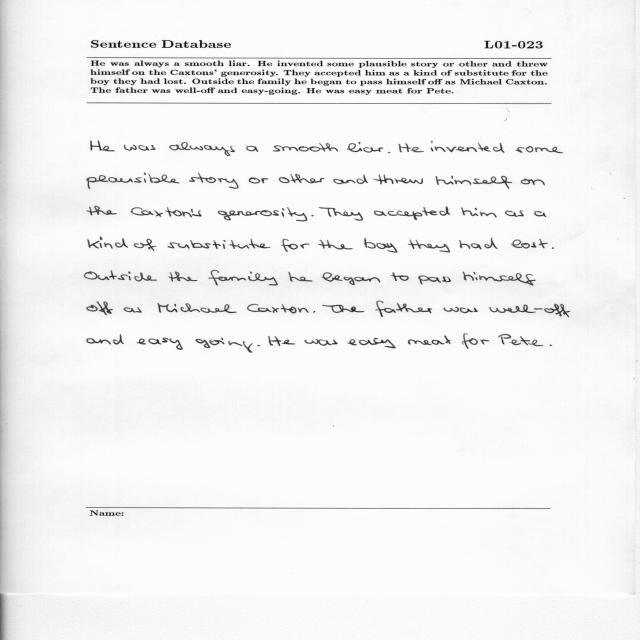word: (137, 338, 253, 353), (87, 173, 179, 189), (474, 304, 571, 317), (218, 207, 307, 221), (208, 270, 278, 286), (462, 272, 536, 286), (168, 239, 271, 249), (435, 176, 512, 189), (374, 207, 450, 220), (169, 142, 235, 156), (375, 301, 432, 317), (431, 141, 505, 153), (84, 270, 157, 282), (189, 173, 239, 189), (157, 303, 237, 313), (322, 272, 380, 285), (131, 208, 202, 218), (319, 207, 363, 221), (247, 304, 308, 314), (273, 143, 338, 152), (408, 240, 450, 253), (499, 334, 544, 346), (364, 238, 398, 253), (373, 175, 423, 185), (347, 338, 396, 348), (88, 237, 128, 249), (408, 335, 451, 345), (459, 238, 498, 249), (347, 142, 384, 153), (279, 174, 324, 183), (462, 334, 489, 349), (461, 207, 497, 218), (86, 302, 113, 316), (281, 239, 310, 252), (511, 239, 548, 249), (87, 334, 124, 344), (333, 175, 368, 185), (318, 240, 353, 250), (322, 305, 364, 313), (516, 146, 563, 153), (87, 206, 117, 216), (418, 276, 451, 285), (169, 272, 198, 282), (268, 336, 295, 346), (134, 239, 156, 251), (288, 272, 313, 282), (91, 141, 115, 151), (305, 339, 338, 346), (399, 143, 424, 152), (124, 145, 156, 151), (443, 307, 473, 313), (520, 179, 545, 186), (391, 272, 409, 281), (249, 178, 269, 184), (505, 211, 524, 217), (123, 307, 142, 313), (247, 146, 259, 152), (534, 211, 546, 217), (552, 247, 554, 249), (313, 311, 315, 313), (388, 152, 391, 153), (311, 215, 314, 216), (258, 345, 261, 346), (550, 345, 552, 346)
